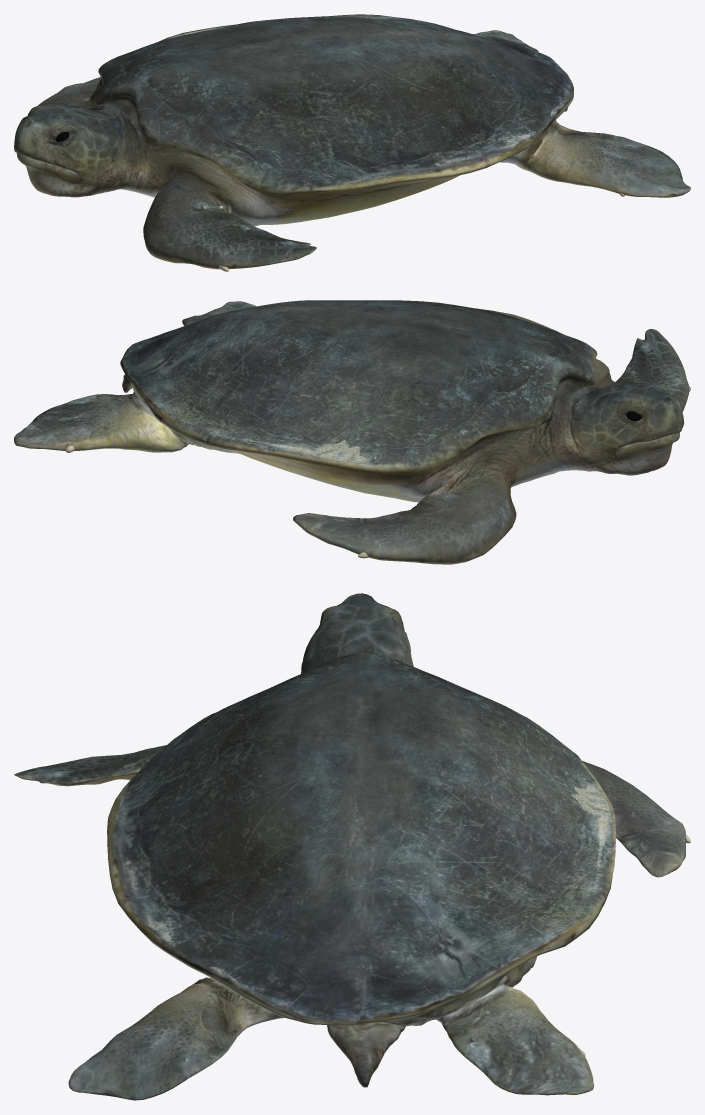
The model's file is turtle.glb.
The picture shows the model from 3 angles, top to bottom: view 1: azimuth 30°, elevation 25°; view 2: azimuth 150°, elevation 25°; view 3: azimuth 270°, elevation 25°; orthographic projection. The views are drawn at different scales.
Parts seen in each view (by area): view 1: body; view 2: body; view 3: body.
Part boxes in pixels (box(x1,y1,x2,y2)): body: box(14, 14, 690, 271); body: box(14, 300, 690, 564); body: box(14, 593, 690, 1100).
Size of the model in its own units: 1 by 0.2401 by 0.7923.
4 materials, 4 textured.
